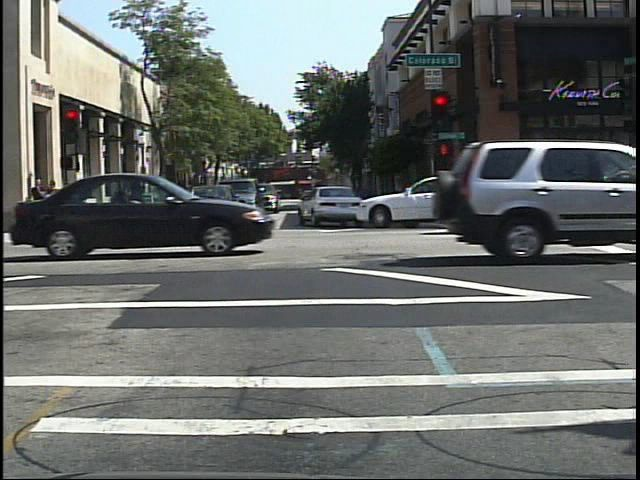person: (121, 181, 141, 224), (135, 181, 151, 218)
